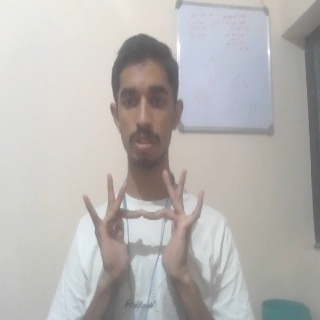Face: (107, 32, 186, 167)
Internet: (79, 168, 209, 292)
